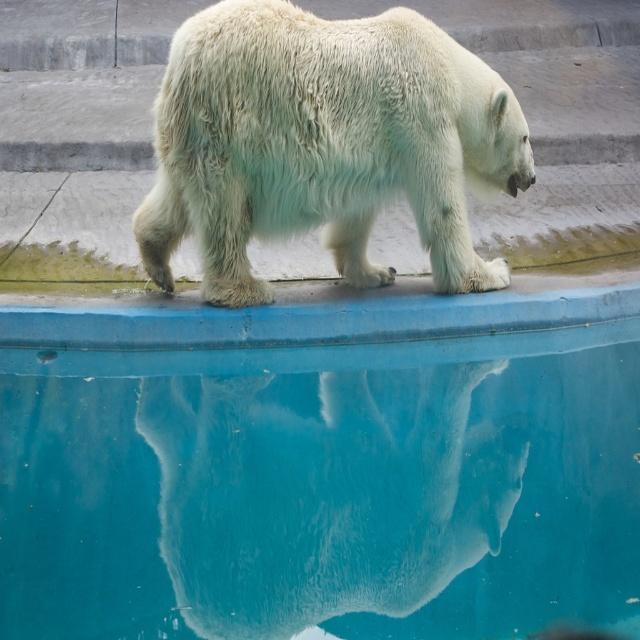Polar bear: (132, 0, 536, 308)
